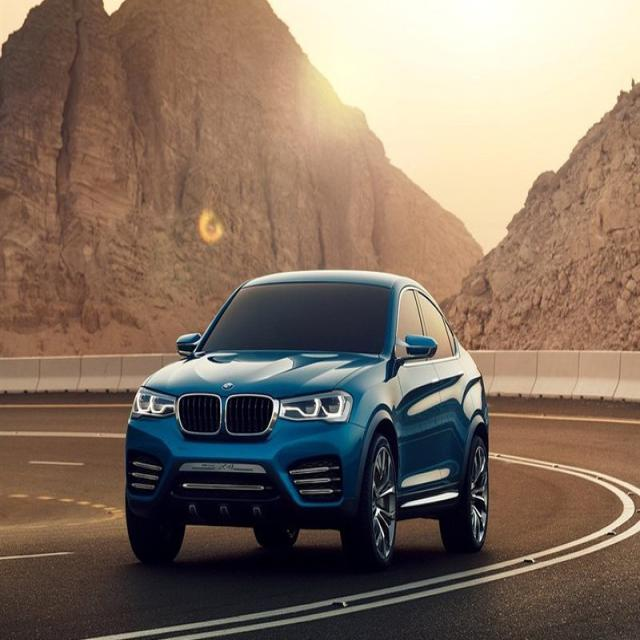front_bumper: (124, 414, 366, 523)
front_glass: (198, 278, 396, 356)
front_left_side_door: (394, 282, 448, 501)
front_left_side_light: (274, 390, 356, 422)
front_left_side_mirror: (394, 331, 438, 363)
front_right_side_light: (130, 382, 177, 418)
front_right_side_mirror: (173, 327, 201, 360)
wheel: (350, 435, 400, 562), (439, 434, 489, 551)
